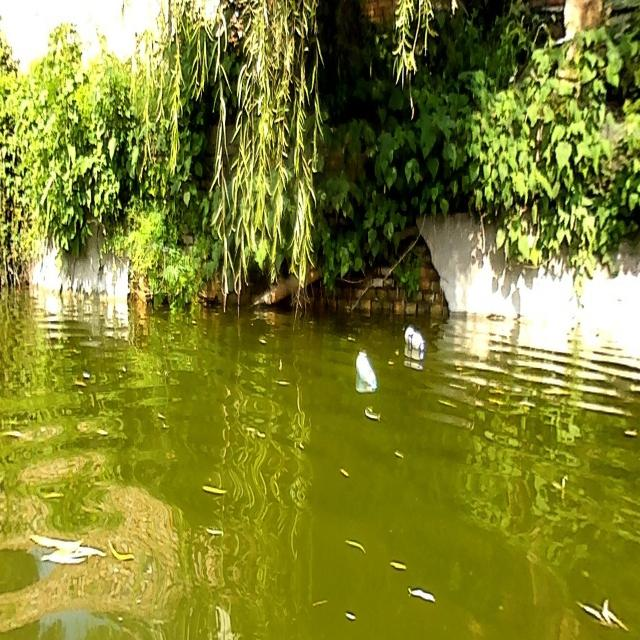bottle: (355, 349, 377, 388), (403, 324, 426, 352)
